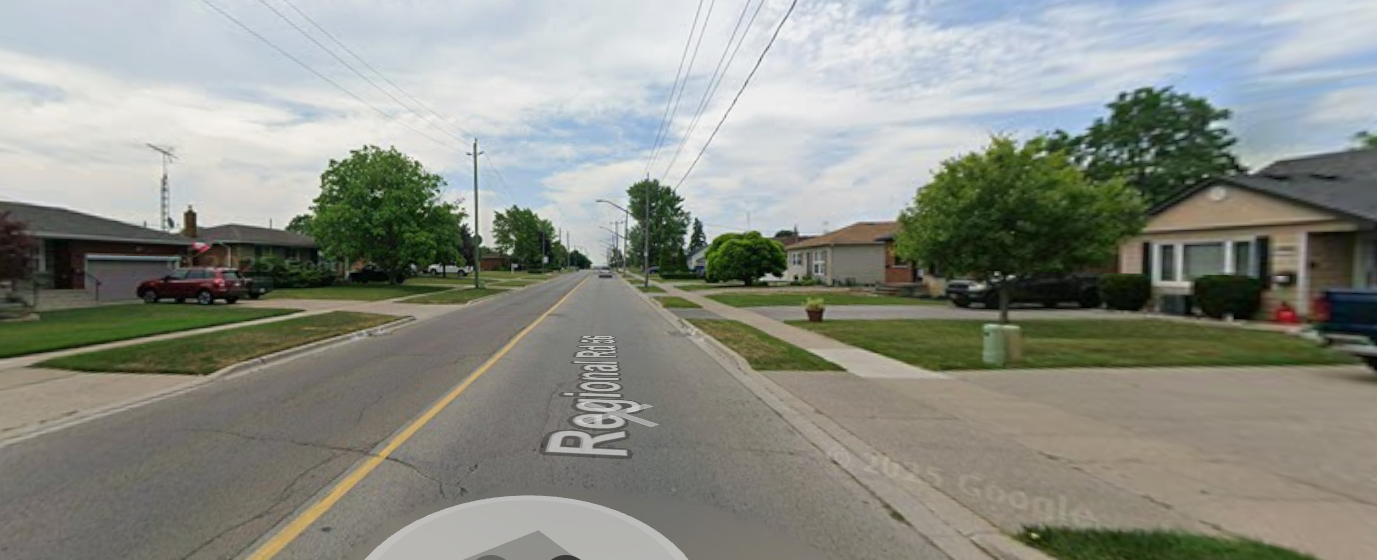cracks: (179, 422, 451, 503)
